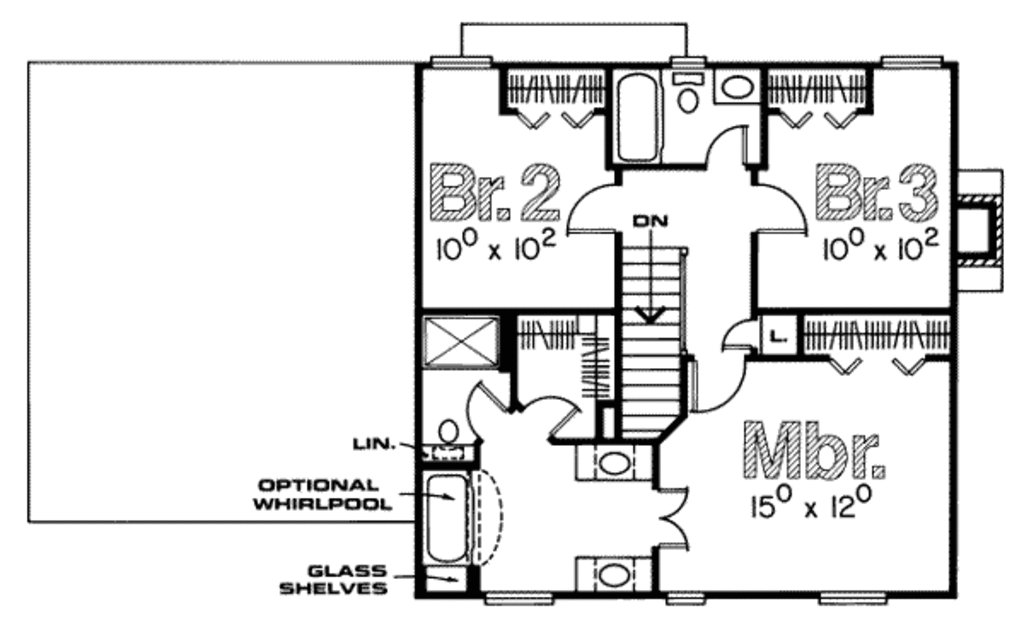door: (749, 178, 813, 243), (692, 350, 749, 419), (562, 179, 622, 239), (701, 119, 756, 176), (460, 377, 505, 446), (523, 391, 582, 441), (654, 486, 692, 553), (718, 315, 753, 355)
large_sink: (666, 70, 711, 116), (425, 414, 467, 462)
small_sink: (572, 548, 658, 601), (570, 439, 656, 484), (710, 66, 764, 108)
stairs: (616, 211, 692, 444)
tub: (417, 465, 476, 564), (608, 64, 661, 162)
window: (428, 48, 498, 76), (484, 588, 560, 609), (819, 591, 888, 607), (665, 589, 707, 611), (879, 55, 945, 68)
